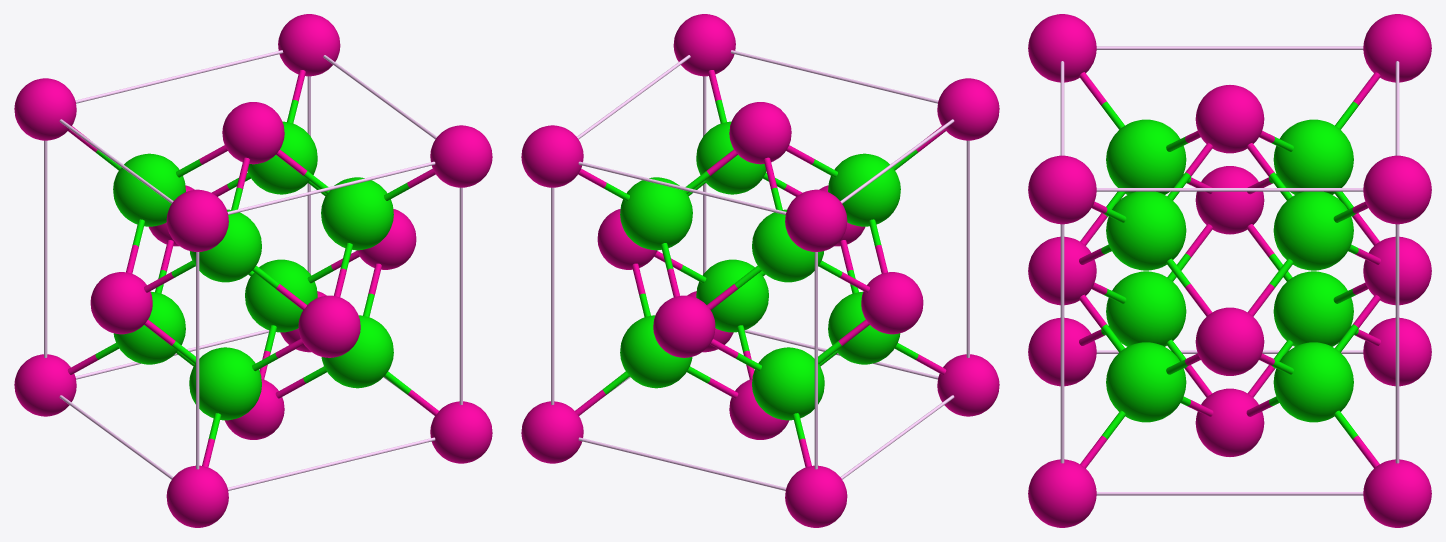
File: fluorite.glb
3 renders of one model, left to right at view 1: azimuth 30°, elevation 25°; view 2: azimuth 150°, elevation 25°; view 3: azimuth 270°, elevation 25°, orthographic. The views are drawn at different scales.
Visible parts, largest first — view 1: F18, F02, F13, F20, Ca04, Ca06, Ca17, Ca01, Ca14, Ca03, Ca12, Ca07 (+8 smaller); view 2: F22, F10, F08, F16, Ca11, Ca12, Ca21, Ca09, Ca19, Ca06, Ca03, Ca07 (+8 smaller); view 3: F16, F20, F18, F22, F02, F10, F08, F13, Ca17, Ca21, Ca15, Ca14 (+34 smaller).
Part boxes in pixels (<box>): F18: <box>321,177,393,250</box>; F02: <box>189,347,261,420</box>; F13: <box>113,153,185,226</box>; F20: <box>245,259,317,332</box>; Ca04: <box>298,295,360,357</box>; Ca06: <box>166,189,228,251</box>; Ca17: <box>430,125,492,187</box>; Ca01: <box>166,465,228,527</box>; Ca14: <box>430,401,492,463</box>; Ca03: <box>90,272,152,334</box>; Ca12: <box>14,78,76,140</box>; Ca07: <box>222,102,284,164</box>; F22: <box>620,177,692,250</box>; F10: <box>752,347,824,420</box>; F08: <box>828,153,900,226</box>; F16: <box>696,259,768,332</box>; Ca11: <box>653,295,715,357</box>; Ca12: <box>785,189,847,251</box>; Ca21: <box>521,125,583,187</box>; Ca09: <box>785,465,847,527</box>; Ca19: <box>521,401,583,463</box>; Ca06: <box>937,78,999,140</box>; Ca03: <box>861,272,923,334</box>; Ca07: <box>729,102,791,164</box>; F16: <box>1106,342,1186,422</box>; F20: <box>1273,342,1353,422</box>; F18: <box>1106,191,1186,270</box>; F22: <box>1273,191,1353,270</box>; F02: <box>1106,271,1186,346</box>; F10: <box>1273,271,1353,346</box>; F08: <box>1106,119,1186,194</box>; F13: <box>1273,119,1353,194</box>; Ca17: <box>1028,155,1096,224</box>; Ca21: <box>1363,155,1431,224</box>; Ca15: <box>1195,307,1264,375</box>; Ca14: <box>1028,459,1096,527</box>.
Bounding box in the file's own units: 6.58 × 6.58 × 6.58.
